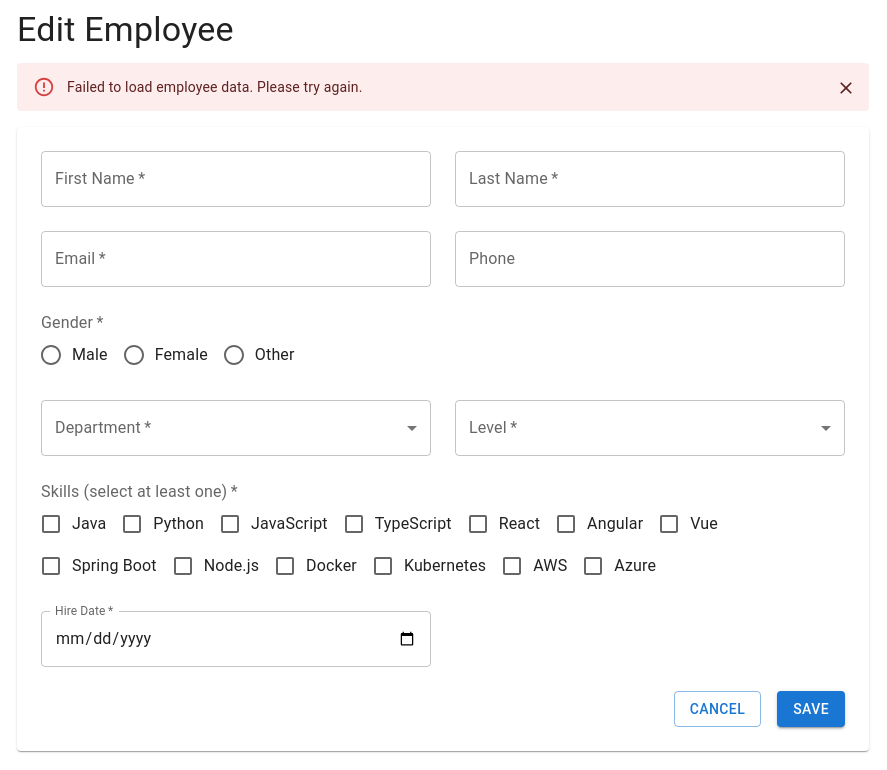
EmployeeFormPage › should show error alert with close button
The image size is (887, 770).
Expected: the text "Failed to load employee data. Please try again." is shown, [67,79,362,95]
Click the button named "Close" at point(846, 88), box [831,73,861,103]
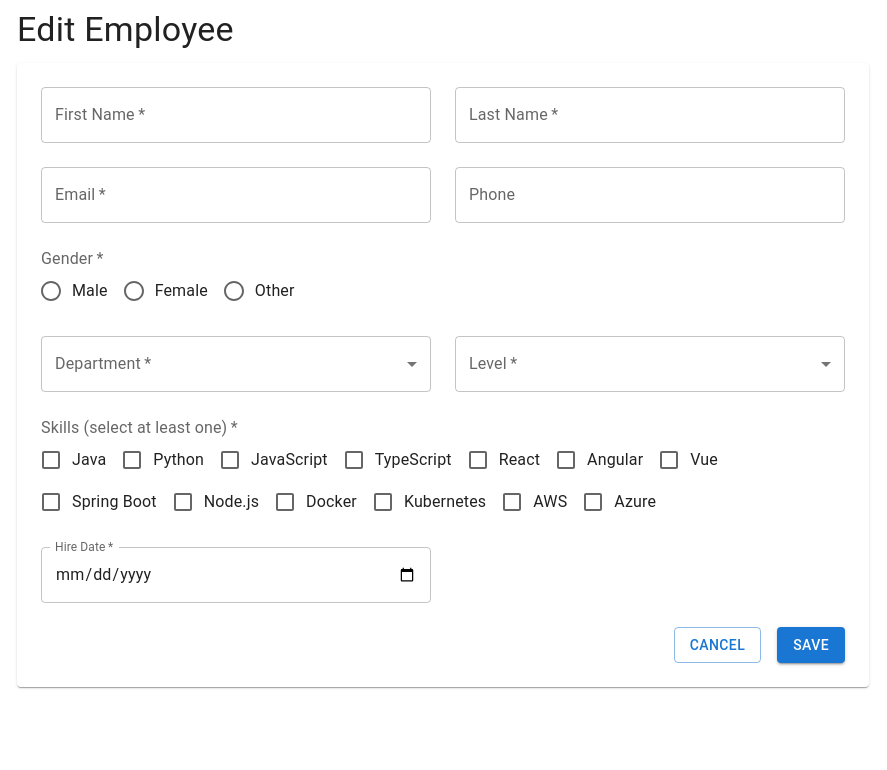
Result: the text "Failed to load employee data. Please try again." is gone
